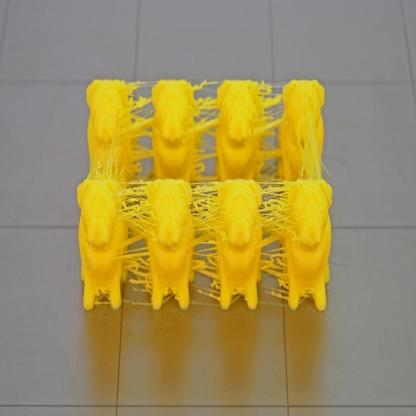fail: (191, 180, 223, 309), (123, 184, 150, 298), (265, 189, 291, 300), (94, 143, 129, 193), (302, 110, 325, 180)
